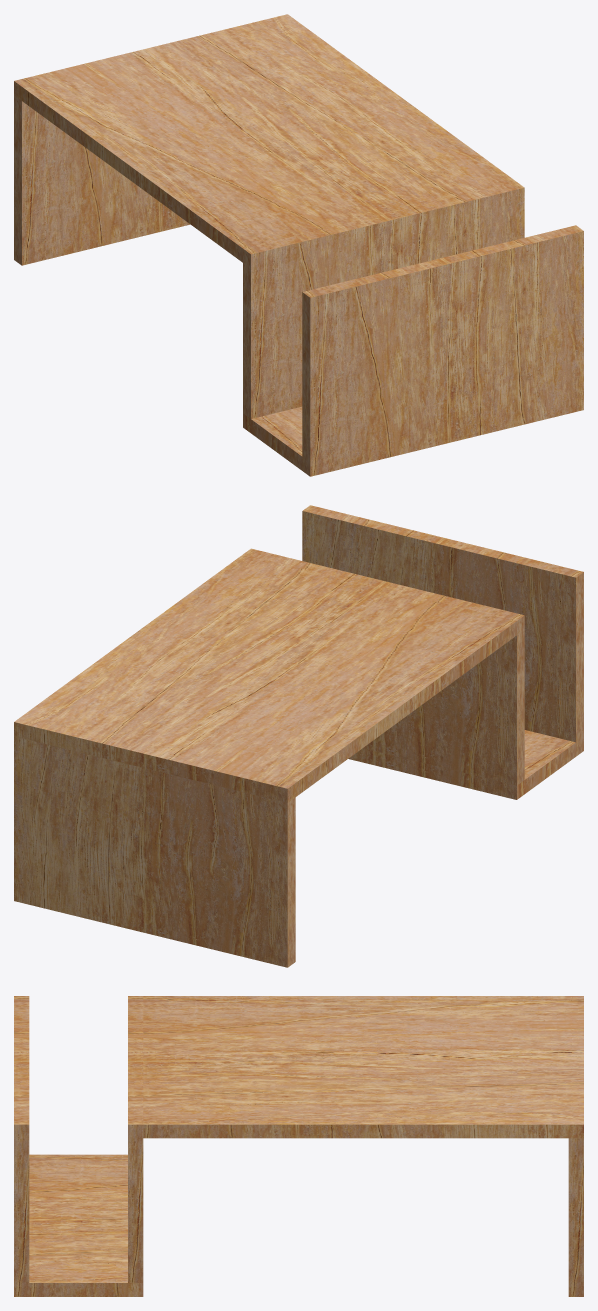
File: table3d-2.glb
3 renders of one model, top to bottom at view 1: azimuth 30°, elevation 25°; view 2: azimuth 150°, elevation 25°; view 3: azimuth 270°, elevation 25°, orthographic. The views are drawn at different scales.
Size of the model in its own units: 0.8 by 0.5 by 1.5.
Materials: 1 (1 with a texture image).
